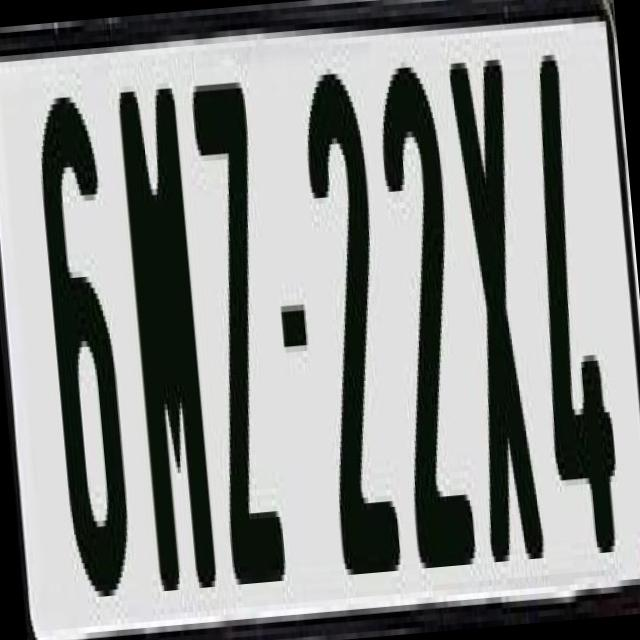2: (294, 59, 406, 570), (372, 64, 480, 574)
4: (518, 34, 628, 550)
6: (32, 77, 144, 610)
M: (114, 81, 222, 592)
X: (448, 47, 546, 580)
Z: (186, 76, 286, 596)
